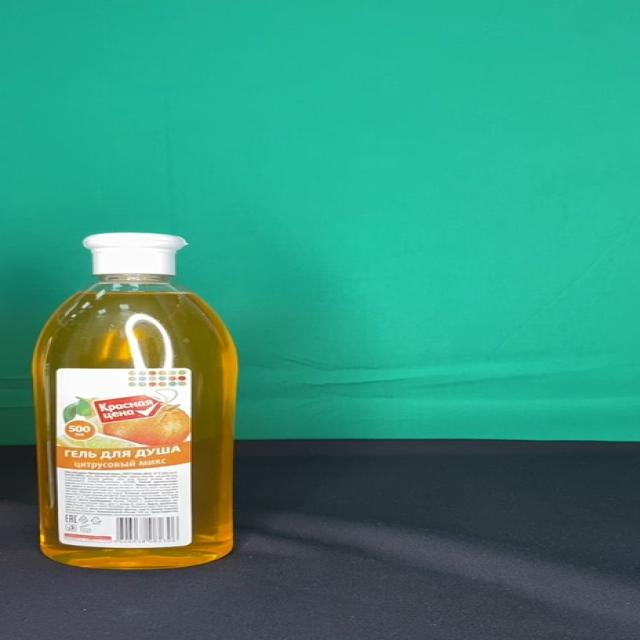Bottle: (30, 231, 238, 568)
Cap: (82, 232, 187, 276)
